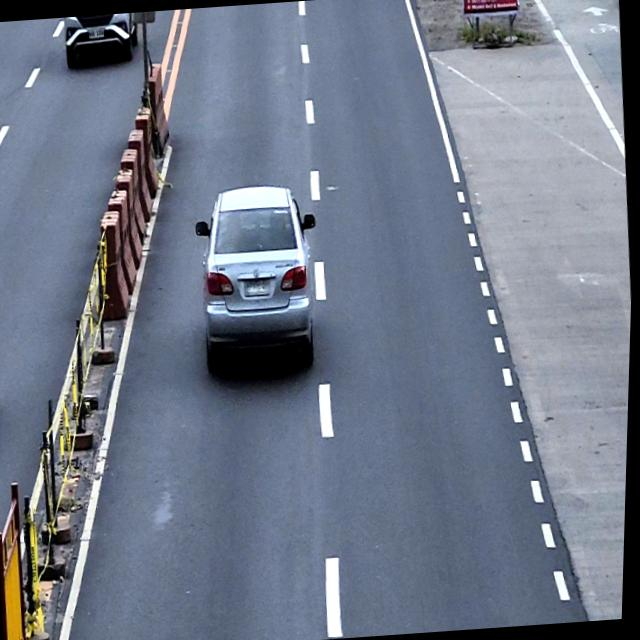Car: (190, 178, 329, 372), (62, 12, 142, 67)
License-Plate: (242, 276, 274, 298), (86, 24, 105, 40)
